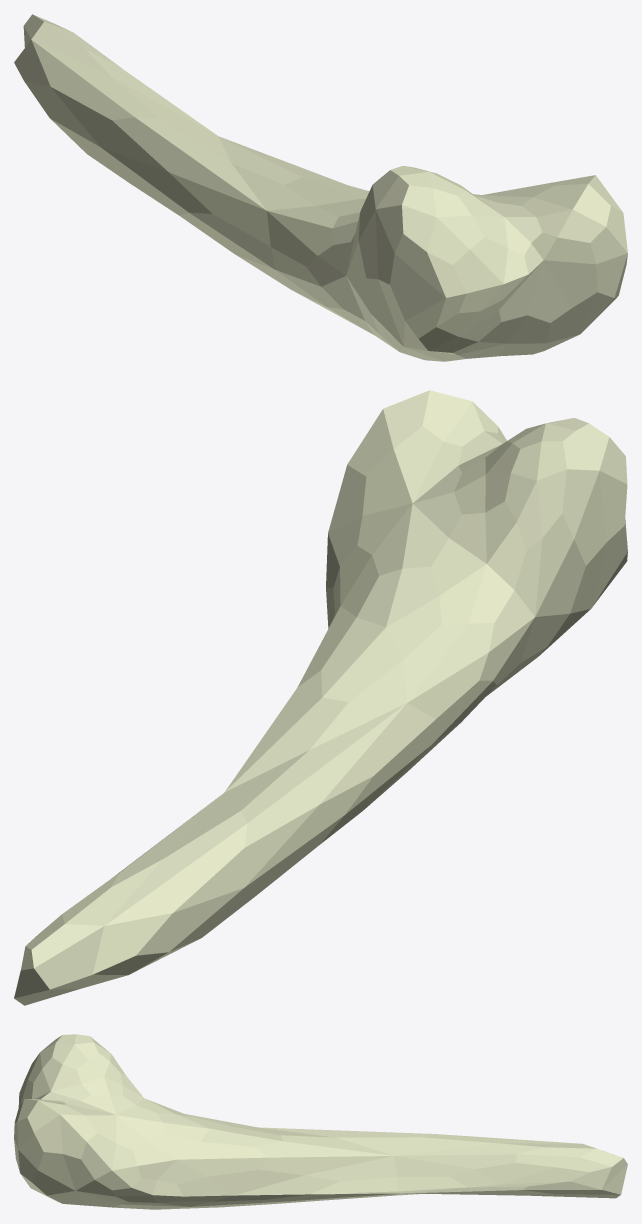
File: T_broken_bone_1 (1).fbx
The picture shows the model from 3 angles, top to bottom: view 1: azimuth 30°, elevation 25°; view 2: azimuth 150°, elevation 25°; view 3: azimuth 270°, elevation 25°; orthographic projection. The views are drawn at different scales.
Parts seen in each view (by area): view 1: Cylinder; view 2: Cylinder; view 3: Cylinder.
Boxes of the visible parts, x1=… form: Cylinder: x1=14, y1=14, x2=627, y2=361; Cylinder: x1=14, y1=390, x2=627, y2=1005; Cylinder: x1=14, y1=1034, x2=627, y2=1209.
Size of the model in its own units: 1325 by 1284 by 4832.
